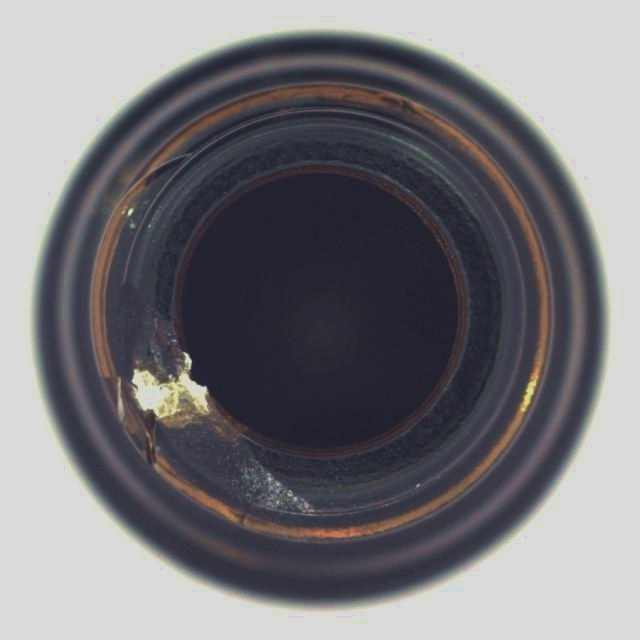bad-broken_large: (30, 31, 610, 613)
